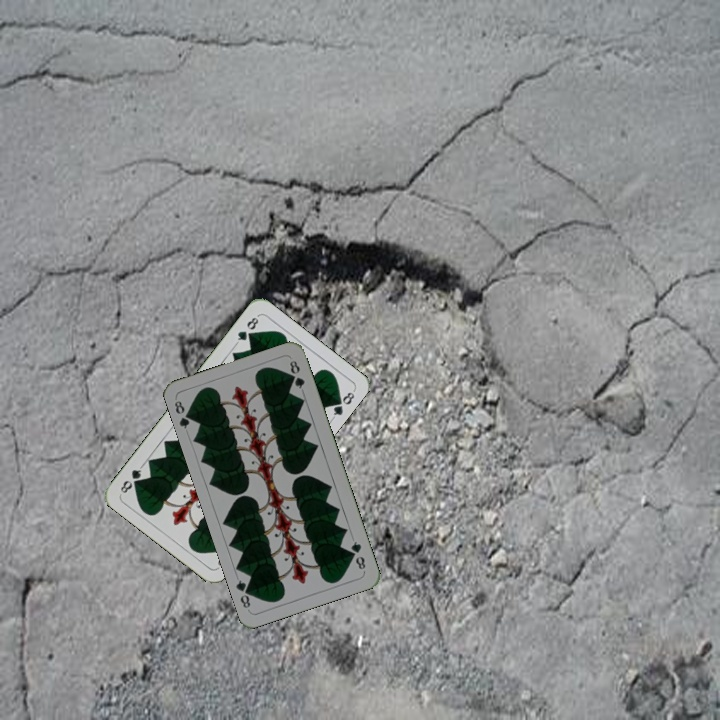G8: (232, 312, 261, 346), (170, 397, 196, 431), (347, 537, 368, 572)
